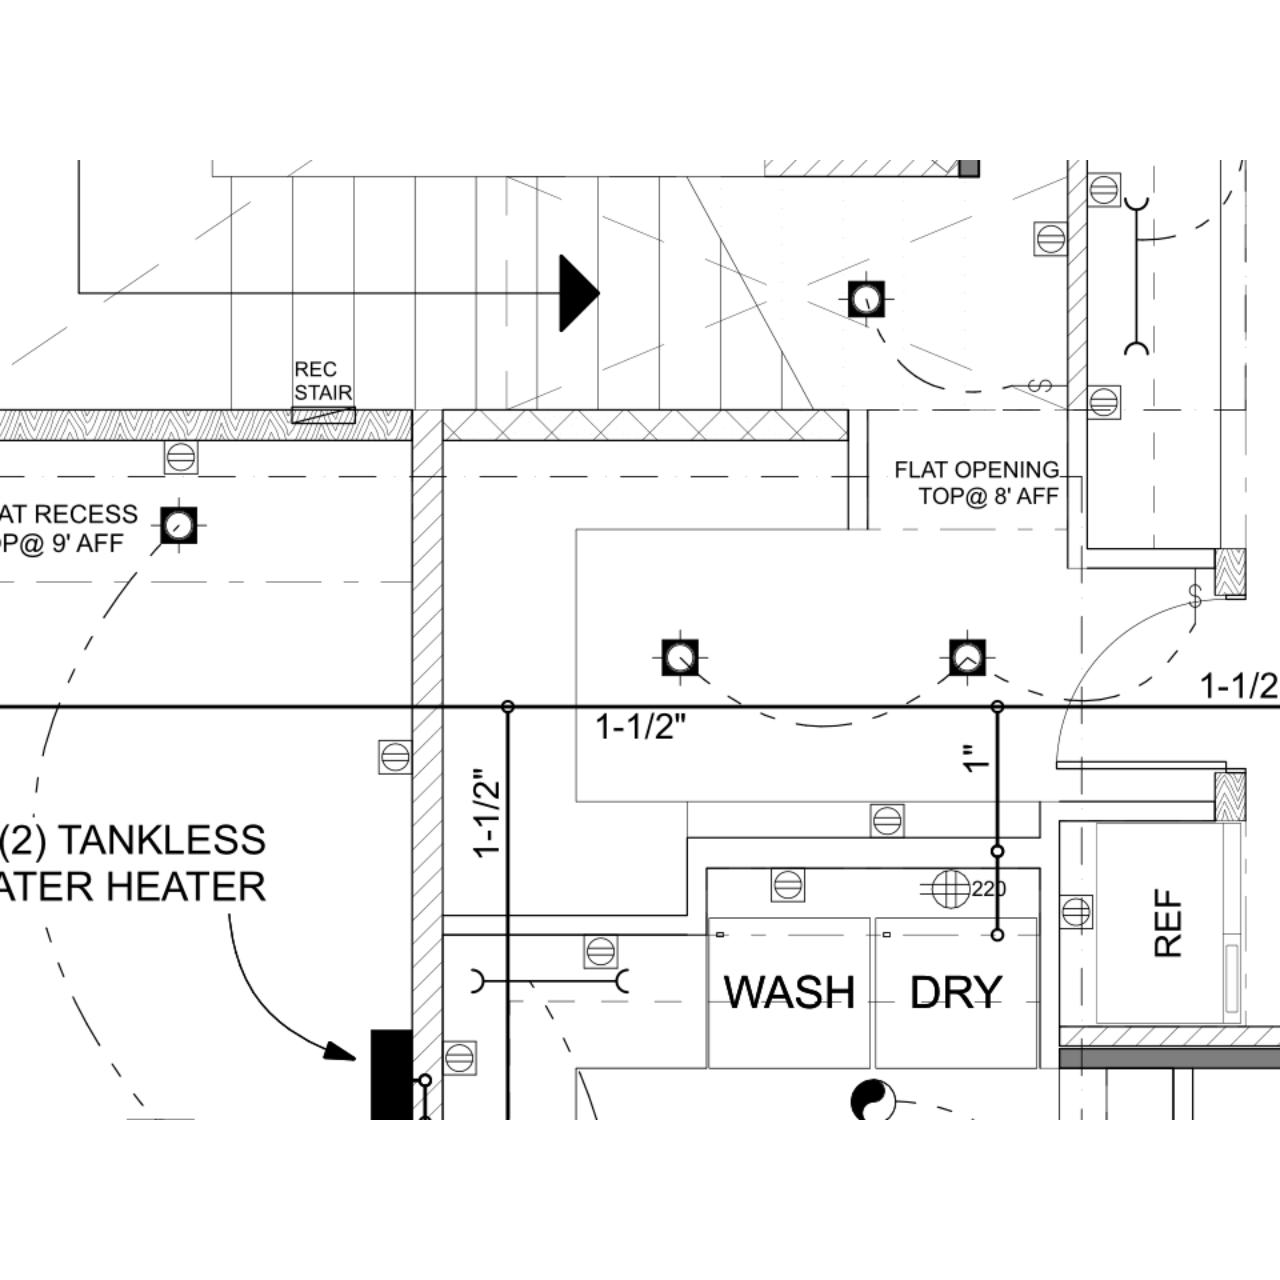220 Volt: (919, 867, 1005, 911)
Bathroom Fan: (849, 1078, 897, 1119)
GFCIOutlet: (440, 1037, 479, 1076), (869, 802, 907, 840), (1060, 890, 1096, 930), (1085, 169, 1122, 209), (583, 933, 620, 969), (1087, 383, 1122, 421), (769, 867, 805, 903), (379, 738, 411, 777), (1034, 222, 1069, 257), (164, 441, 197, 474)
